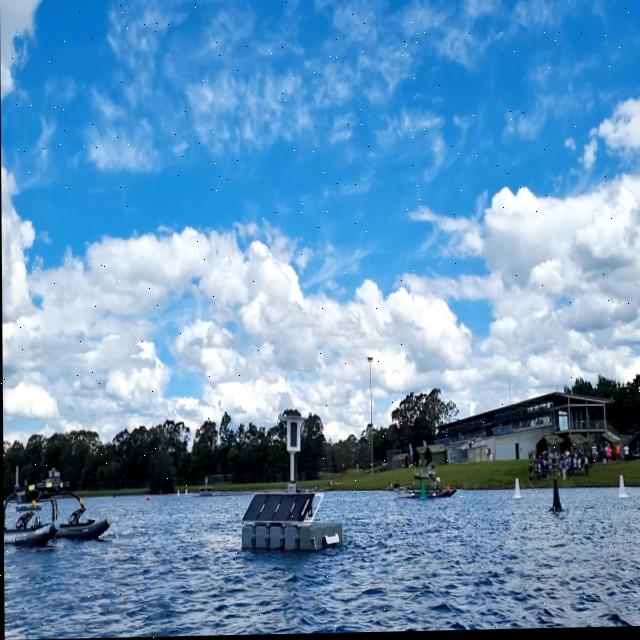led: (287, 421, 299, 451)
